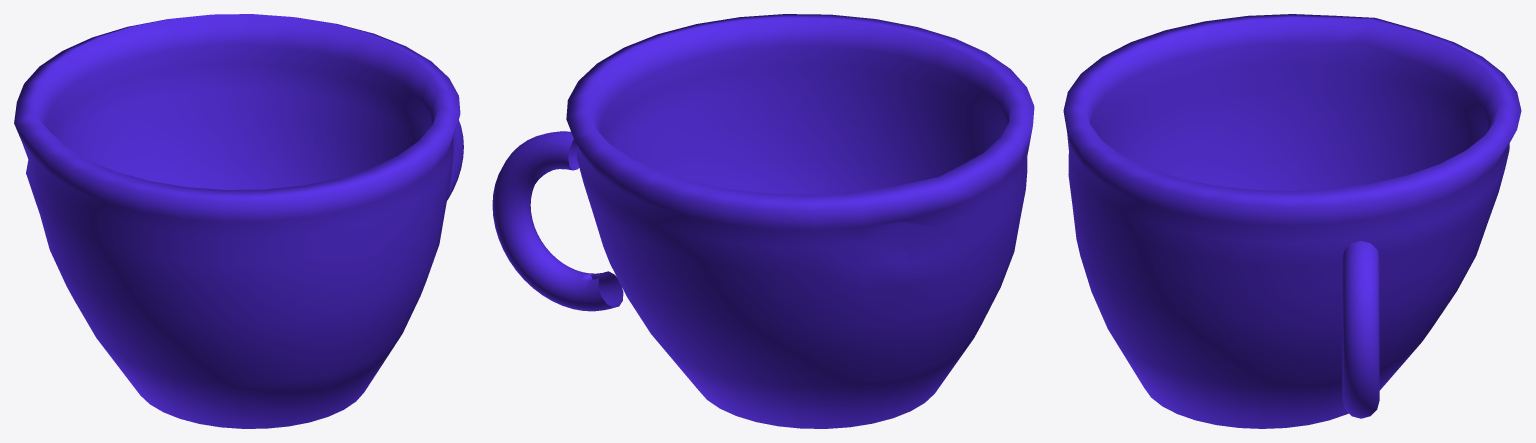
File: cup.glb
3 renders of one model, left to right at view 1: azimuth 30°, elevation 25°; view 2: azimuth 150°, elevation 25°; view 3: azimuth 270°, elevation 25°, orthographic. The views are drawn at different scales.
Parts seen in each view (by area): view 1: Cylinder; view 2: Cylinder; view 3: Cylinder.
Boxes of the visible parts, box(x1,y1,x2,y2) form: Cylinder: box(14, 14, 463, 428); Cylinder: box(492, 14, 1034, 428); Cylinder: box(1063, 14, 1521, 428).
Bounding box in the file's own units: 2.33 × 1.34 × 2.
